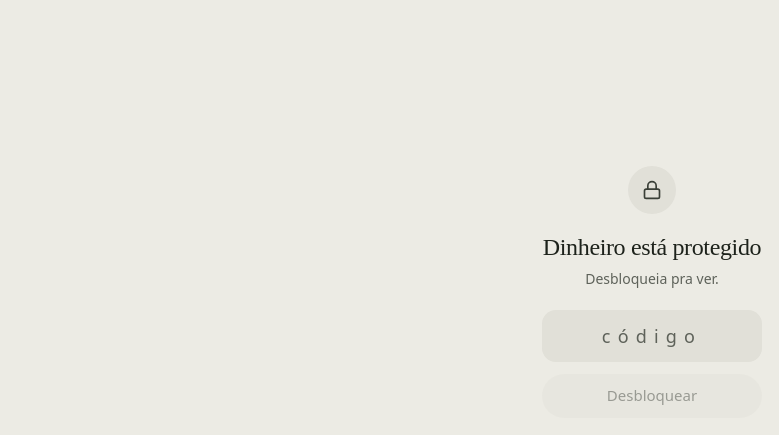
Scenario: privacy lock › the gate hides the content until the right code is typed
Check: the text "segredo" is not shown
Type "1111" into the password field labelled "código" at (652, 336), box [542,310,762,362]
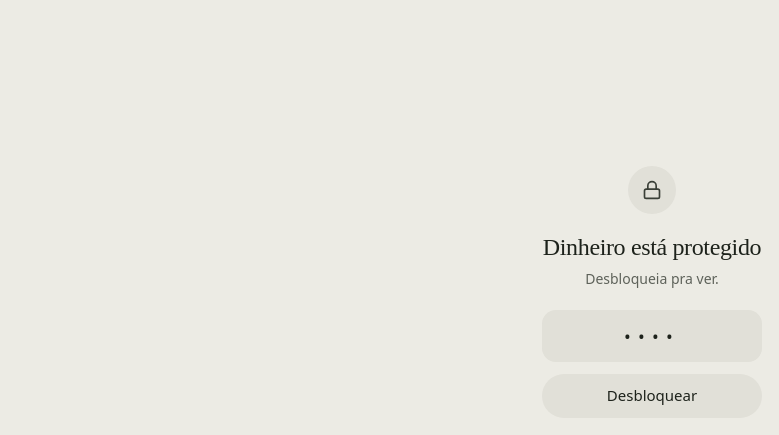
Click the button "Desbloquear" at (652, 396), box [542,374,762,418]
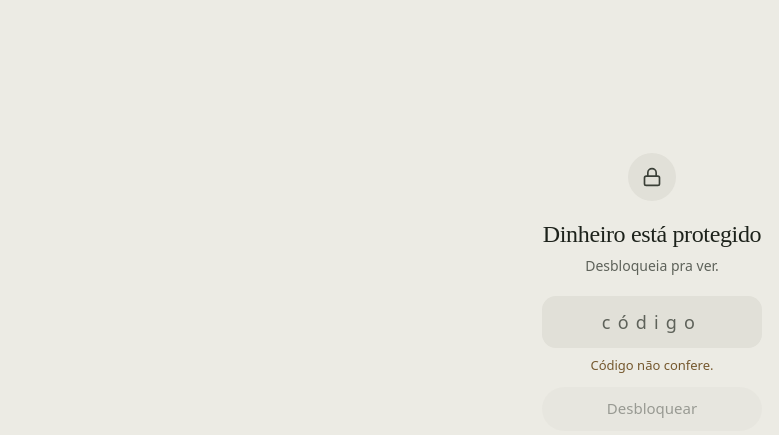
Check: the text "Código não confere." is shown, box [590,356,714,374]
Type "2580" into the password field labelled "código" at (652, 322), box [542,296,762,348]
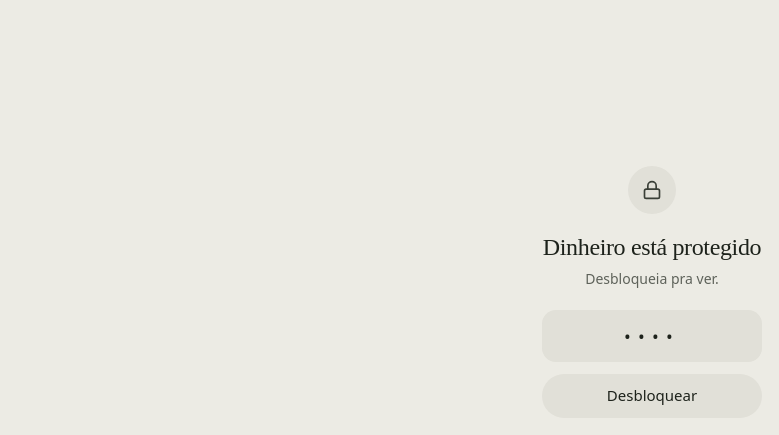
Click the button "Desbloquear" at (652, 396), box [542,374,762,418]
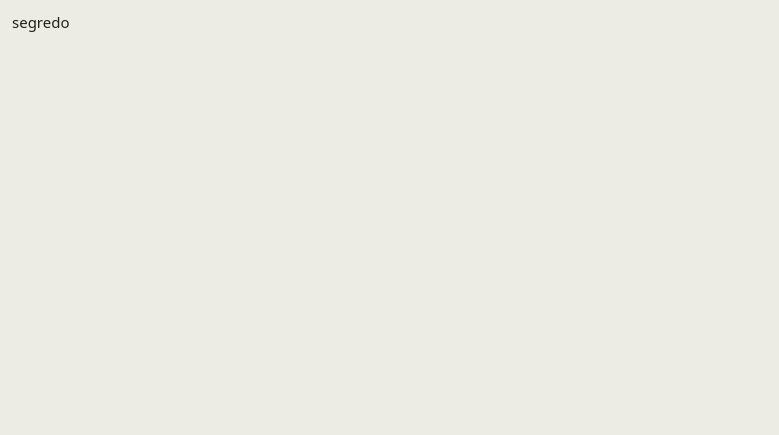
Check: the text "segredo" is shown, box [12,12,70,32]
